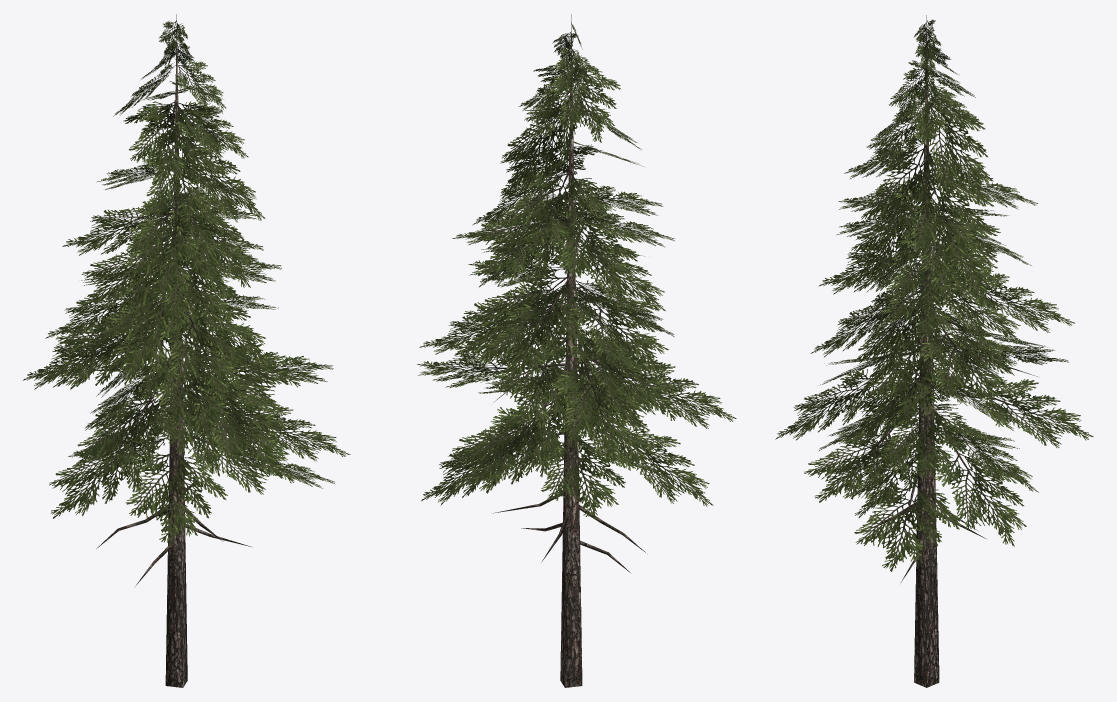
File: SC_yonghengsenlin_27.FBX
3 views of the same model, side by side, from view 1: azimuth 30°, elevation 25°; view 2: azimuth 150°, elevation 25°; view 3: azimuth 270°, elevation 25° (orthographic).
Parts seen in each view (by area): view 1: SC_yonghengsenlin_27; view 2: SC_yonghengsenlin_27; view 3: SC_yonghengsenlin_27.
Boxes of the visible parts, x1,y1,x2,y2 form: SC_yonghengsenlin_27: (23,14,350,687); SC_yonghengsenlin_27: (417,14,736,687); SC_yonghengsenlin_27: (775,15,1093,687).
Bounding box in the file's own units: 272 × 583 × 266.
